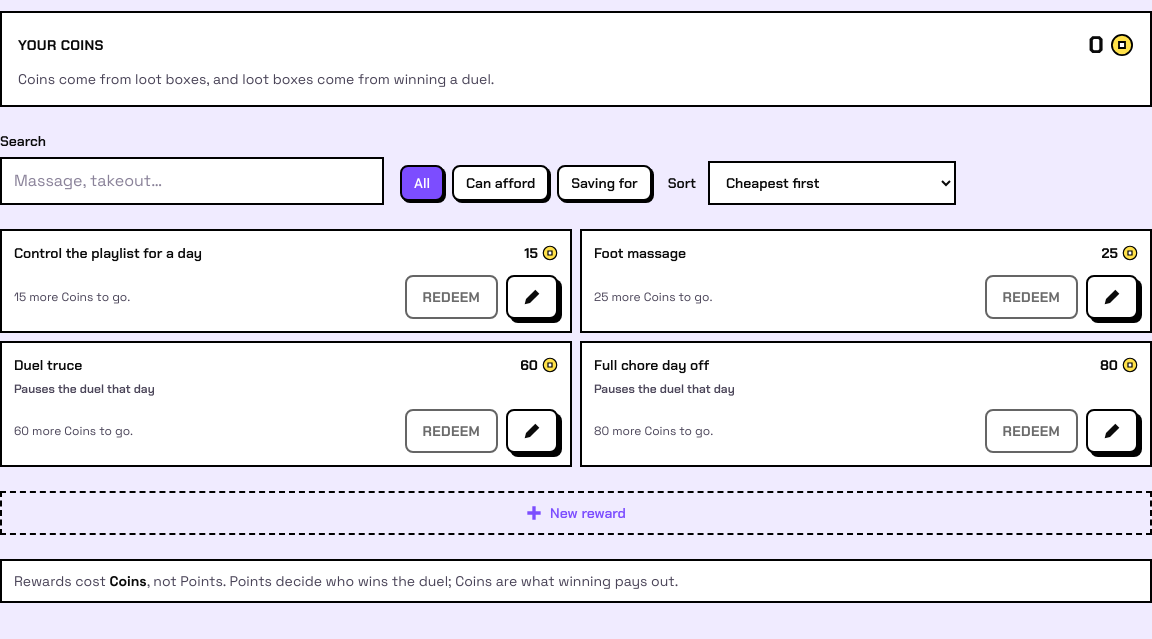
Test case: managing rewards › opens an editor in create mode from under the list
Expected: the heading "Foot massage" is shown, [594, 243, 686, 263]
Click the button "New reward".
click(576, 513)  # box [0, 491, 1151, 535]
(page scrolled)
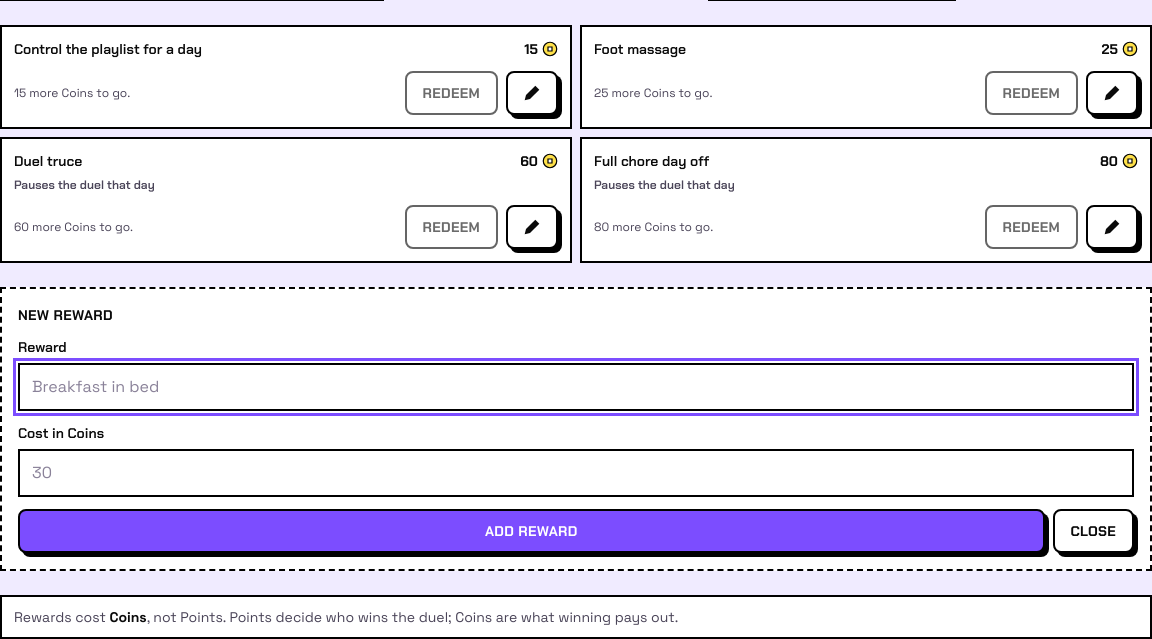
Expected: the heading "New reward" is shown, [18, 306, 113, 324]
Result: the number field labelled "Cost in Coins" is not empty at [18, 449, 1134, 497]
